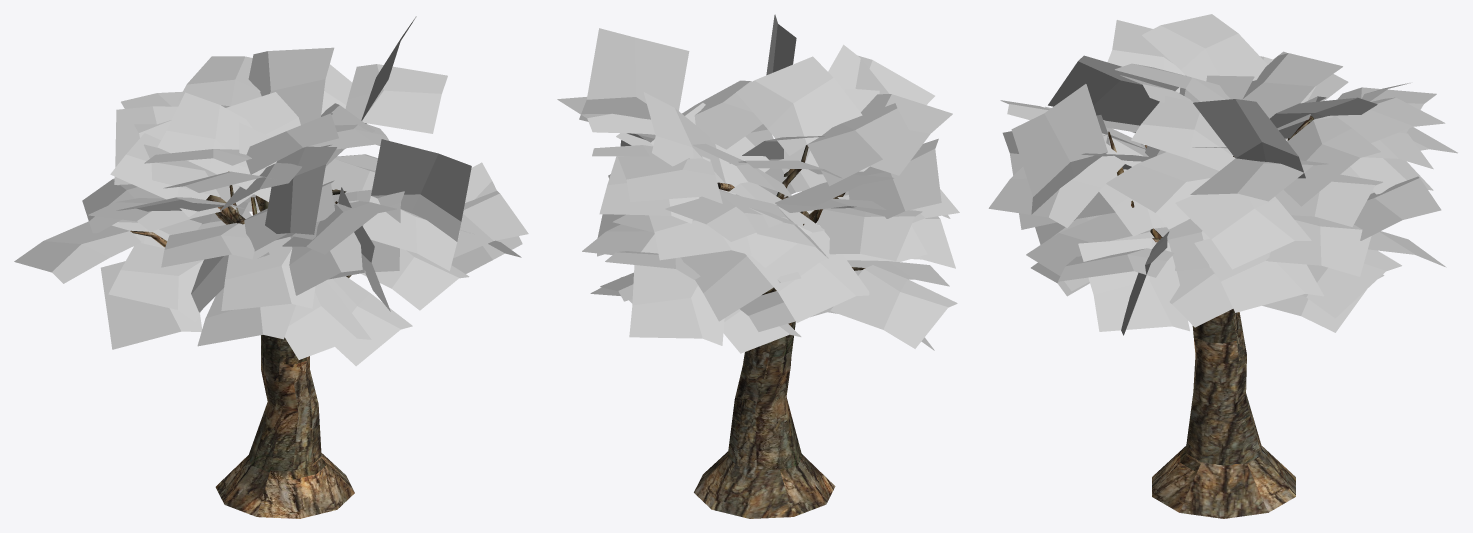
The model's file is Tree2.fbx.
3 views of the same model, side by side, from view 1: azimuth 30°, elevation 25°; view 2: azimuth 150°, elevation 25°; view 3: azimuth 270°, elevation 25° (orthographic). The views are drawn at different scales.
Visible parts, largest first — view 1: Branch, Tree; view 2: Branch, Tree; view 3: Branch, Tree.
Part boxes in pixels (x1=…): Branch: x1=14, y1=16, x2=528, y2=366; Tree: x1=130, y1=171, x2=354, y2=518; Branch: x1=557, y1=14, x2=959, y2=353; Tree: x1=694, y1=145, x2=865, y2=518; Branch: x1=988, y1=14, x2=1457, y2=335; Tree: x1=1108, y1=116, x2=1313, y2=518.
Size of the model in its own units: 525 by 537 by 494.
